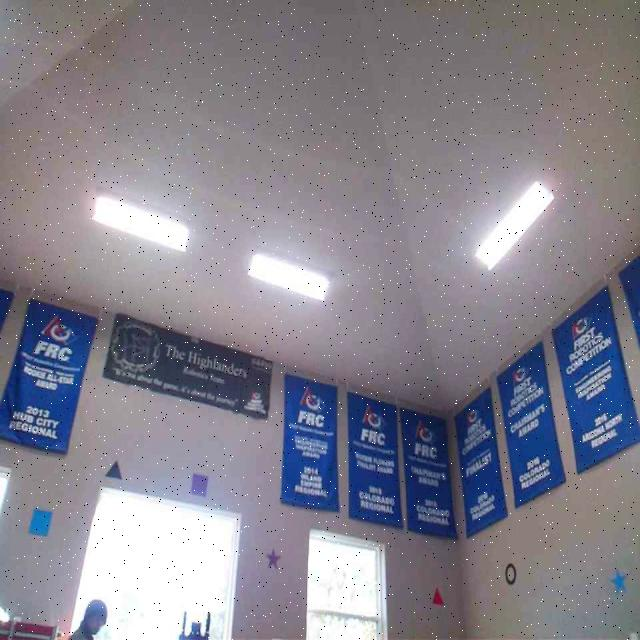ring_black: (504, 562, 516, 584)
square_blue: (28, 508, 54, 534)
square_purple: (190, 471, 210, 495)
star_blue: (610, 569, 627, 595)
star_purple: (266, 549, 280, 567)
triangle_black: (104, 461, 123, 479)
triangle_red: (431, 585, 445, 604)
